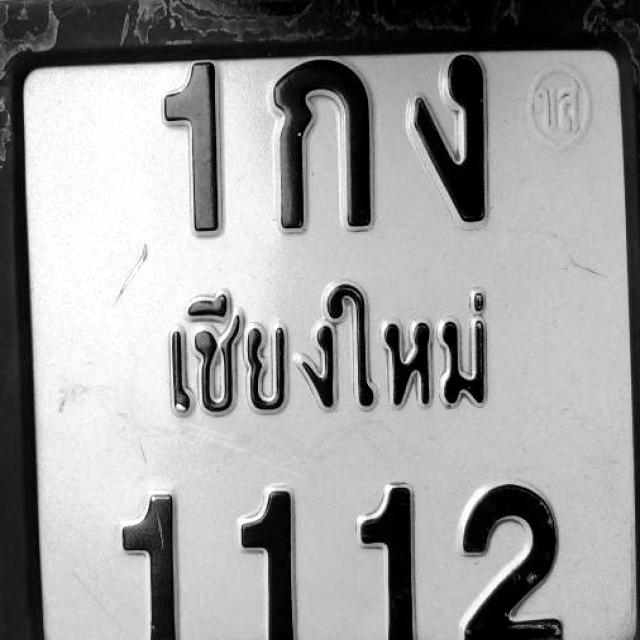letters: (443, 476, 606, 640), (264, 63, 390, 239), (422, 53, 498, 241), (232, 473, 316, 640), (112, 488, 202, 640), (156, 62, 230, 225), (356, 480, 422, 640)
license-plate: (0, 21, 640, 640)
province: (120, 282, 531, 427)
